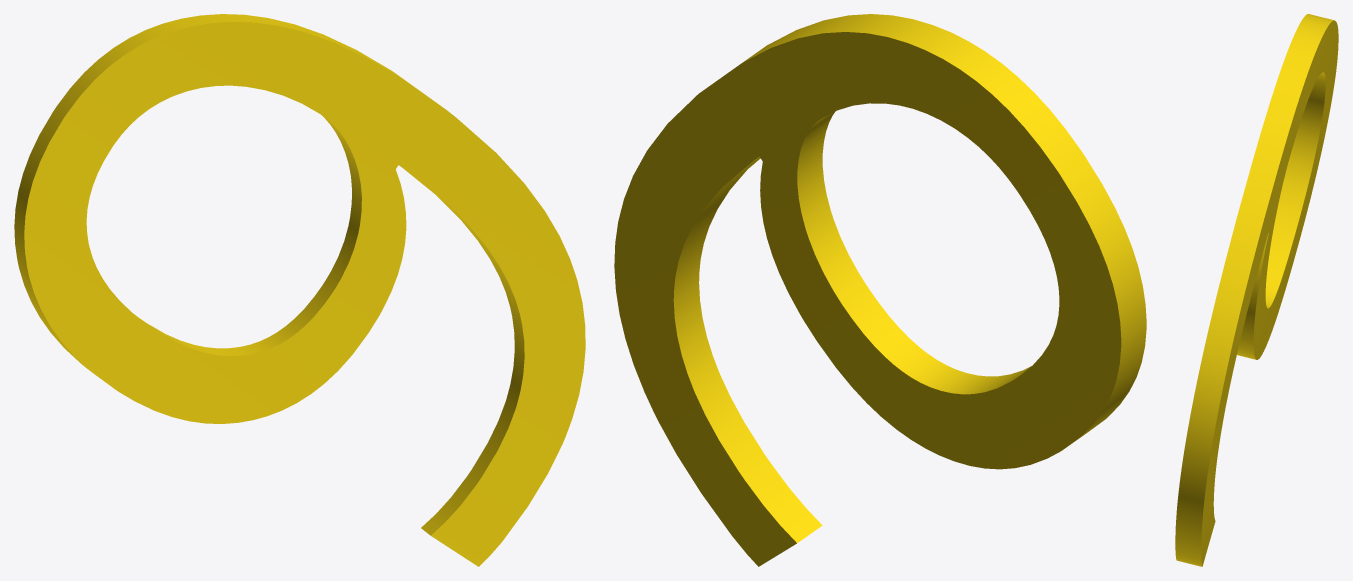
The model's file is Number_6.gltf.
3 renders of one model, left to right at view 1: azimuth 30°, elevation 25°; view 2: azimuth 150°, elevation 25°; view 3: azimuth 270°, elevation 25°, orthographic. The views are drawn at different scales.
Parts seen in each view (by area): view 1: Sub_1_Cell_2_3_Number_6; view 2: Sub_1_Cell_2_3_Number_6; view 3: Sub_1_Cell_2_3_Number_6.
Part boxes in pixels (box(x1,y1,x2,y2)): Sub_1_Cell_2_3_Number_6: box(14, 14, 585, 566); Sub_1_Cell_2_3_Number_6: box(614, 14, 1146, 566); Sub_1_Cell_2_3_Number_6: box(1175, 14, 1338, 566).
Size of the model in its own units: 0.0226 by 0.0236 by 0.00771.
